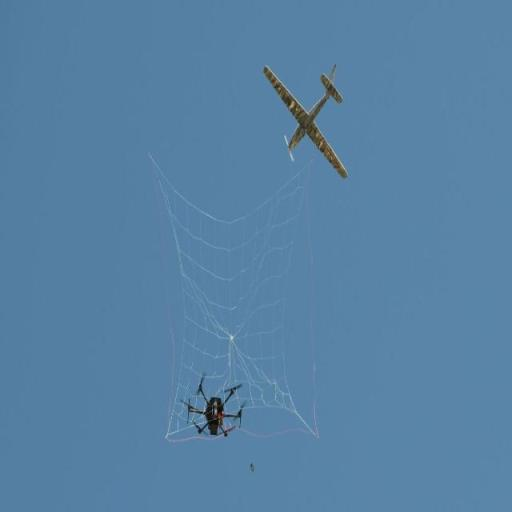uav: (250, 42, 352, 194)
